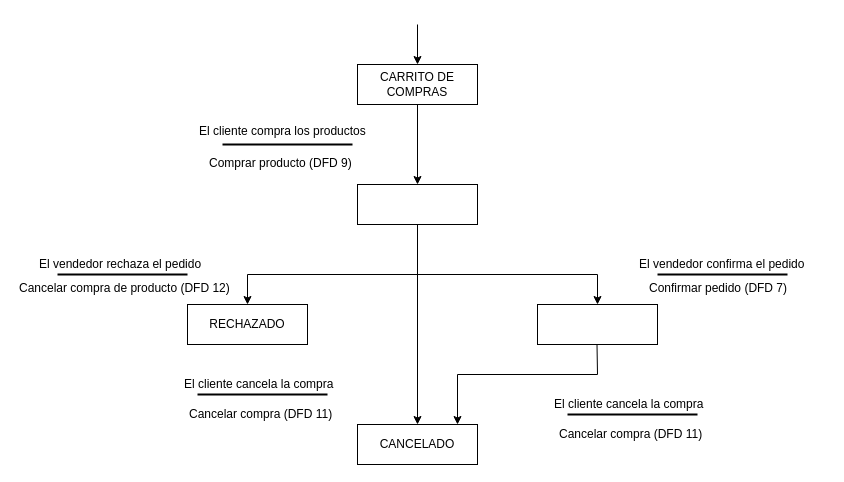
Some shapes in this 844 by 482 pixel diagram are drawn without their labels. Each missing label, with the box of its shape:
COMPRADO: (356, 184, 478, 224)
CONFIRMADO: (536, 304, 658, 344)
